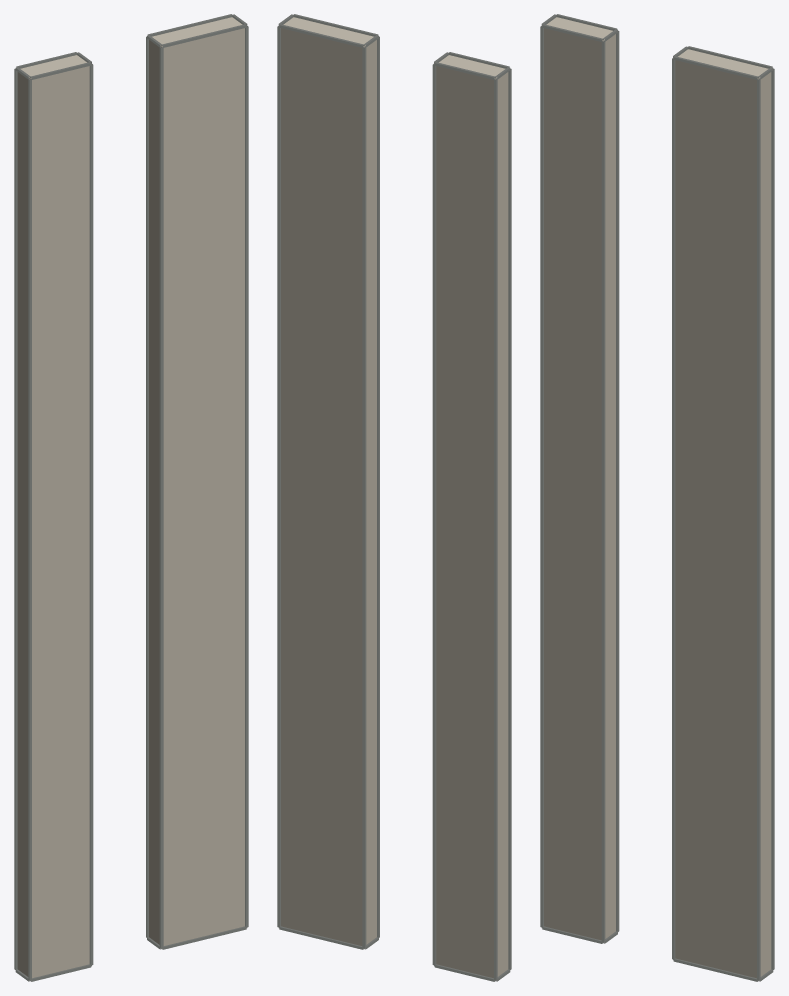
File: modell.glb
3 renders of one model, left to right at view 1: azimuth 30°, elevation 25°; view 2: azimuth 150°, elevation 25°; view 3: azimuth 330°, elevation 25°, orthographic.
Parts seen in each view (by area): view 1: 2026 068 R4; view 2: 2026 068 R4; view 3: 2026 068 R4.
Part boxes in pixels (<box>): 2026 068 R4: <box>14,14,248,981</box>; 2026 068 R4: <box>277,14,511,981</box>; 2026 068 R4: <box>540,14,774,981</box>.
Bounding box in the file's own units: 183 × 723 × 22.13.
